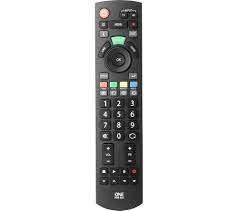remote control: (91, 0, 144, 211)
